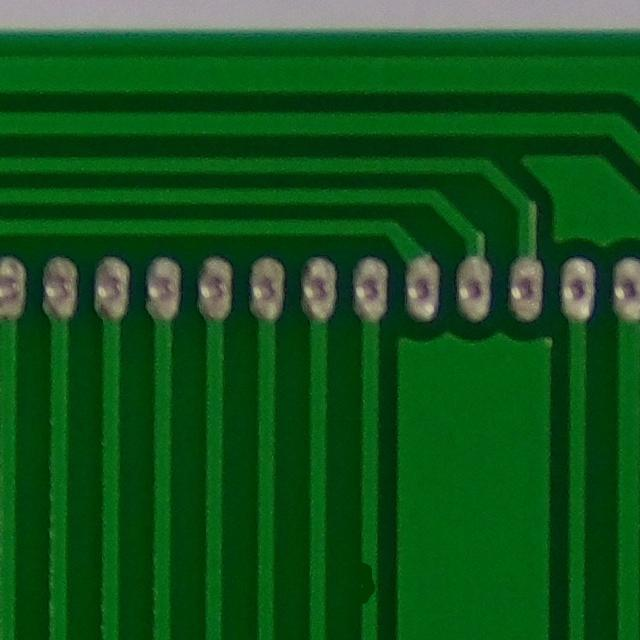mouse_bite: (338, 546, 391, 623)
